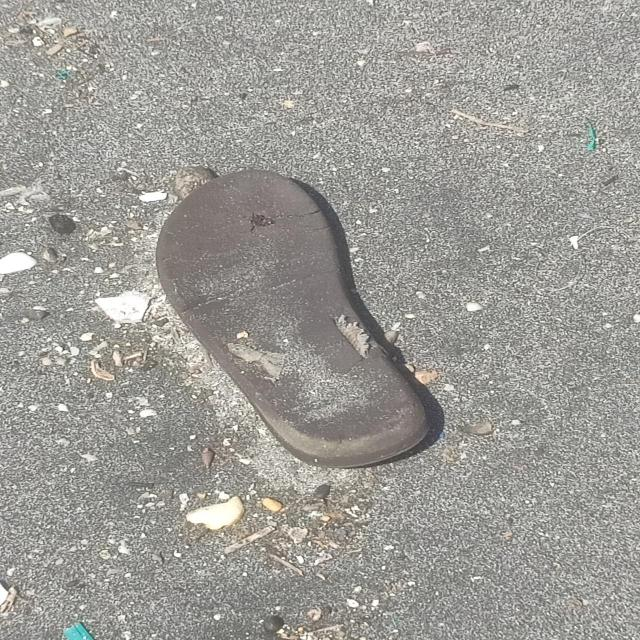rubber_waste: (157, 172, 433, 470)
